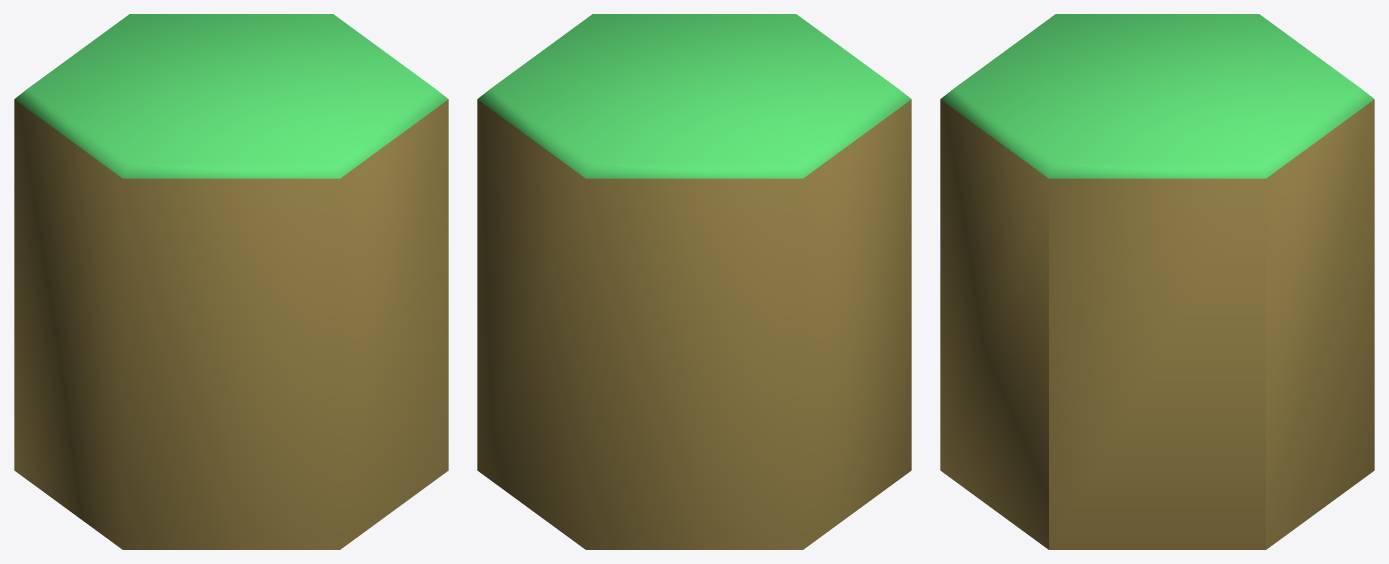
The model's file is Tile_2.fbx.
The picture shows the model from 3 angles, left to right: view 1: azimuth 30°, elevation 25°; view 2: azimuth 150°, elevation 25°; view 3: azimuth 270°, elevation 25°; orthographic projection.
Visible parts, largest first — view 1: Tile1; view 2: Tile1; view 3: Tile1.
Boxes of the visible parts, x1,y1,x2,y2 form: Tile1: (14,14,448,549); Tile1: (477,14,911,549); Tile1: (940,14,1374,549).
Size of the model in its own units: 173 by 194 by 200.
